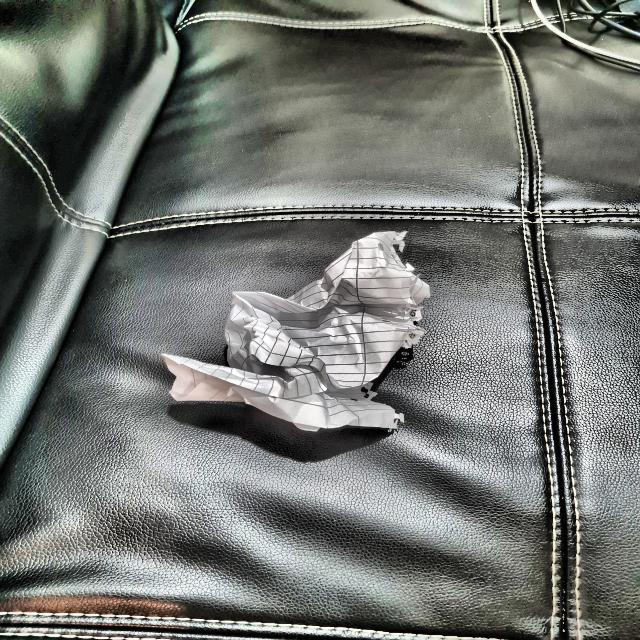Paper: (168, 232, 430, 439)
